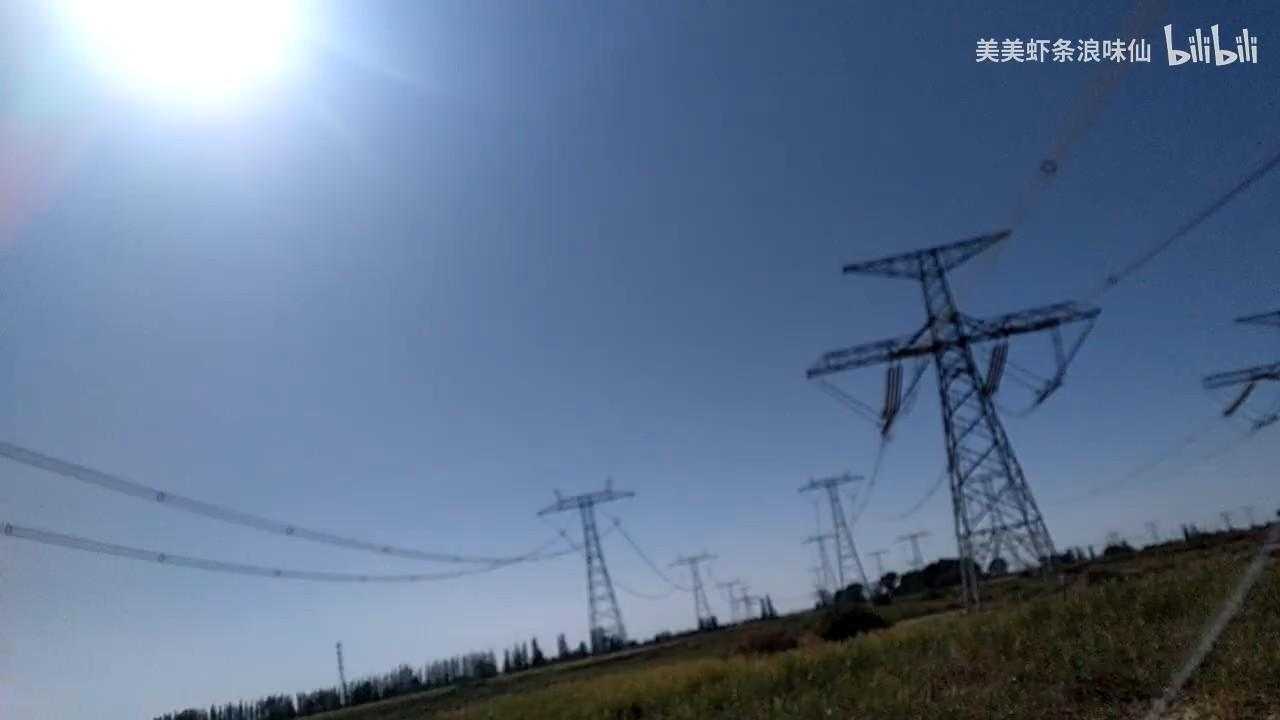power_tower: (802, 215, 1126, 596), (536, 469, 641, 652), (795, 459, 902, 600), (664, 543, 717, 640), (888, 527, 938, 577), (718, 575, 745, 628)
